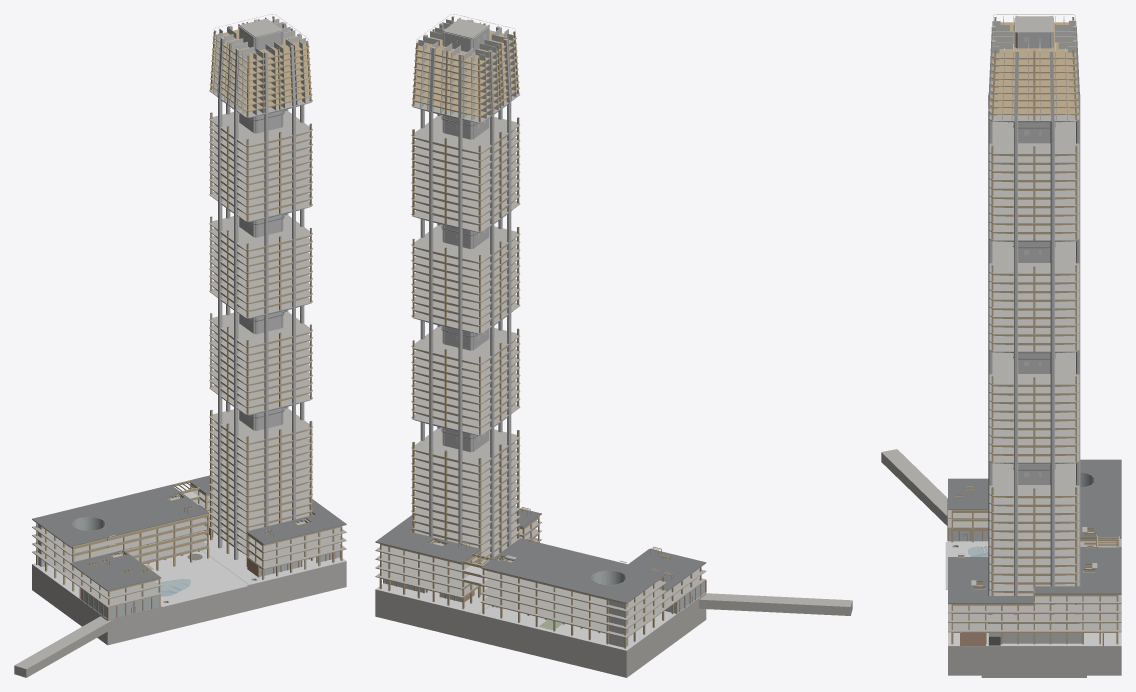
The model's file is tragwerk.glb.
The picture shows the model from 3 angles, left to right: view 1: azimuth 30°, elevation 25°; view 2: azimuth 150°, elevation 25°; view 3: azimuth 270°, elevation 25°; orthographic projection. The views are drawn at different scales.
Parts seen in each view (by area): view 1: tragwerk; view 2: tragwerk; view 3: tragwerk.
Boxes of the visible parts, <box> form: tragwerk: <box>14,14,346,677</box>; tragwerk: <box>375,14,852,677</box>; tragwerk: <box>881,14,1121,677</box>.
Bounding box in the file's own units: 215 × 318 × 110.
